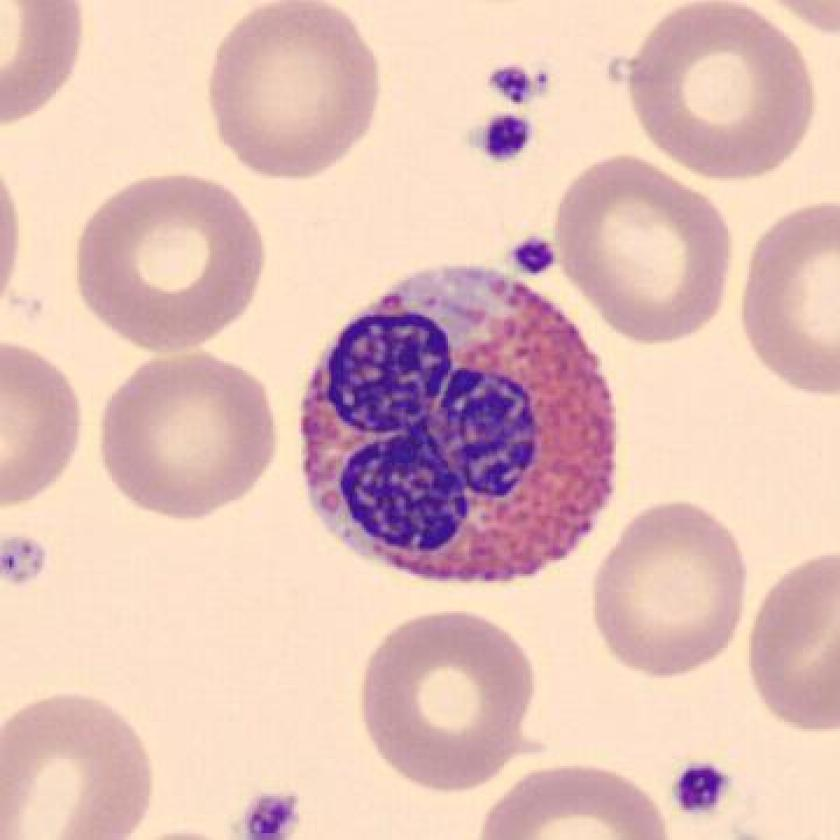eosinophil: (281, 249, 638, 600)
